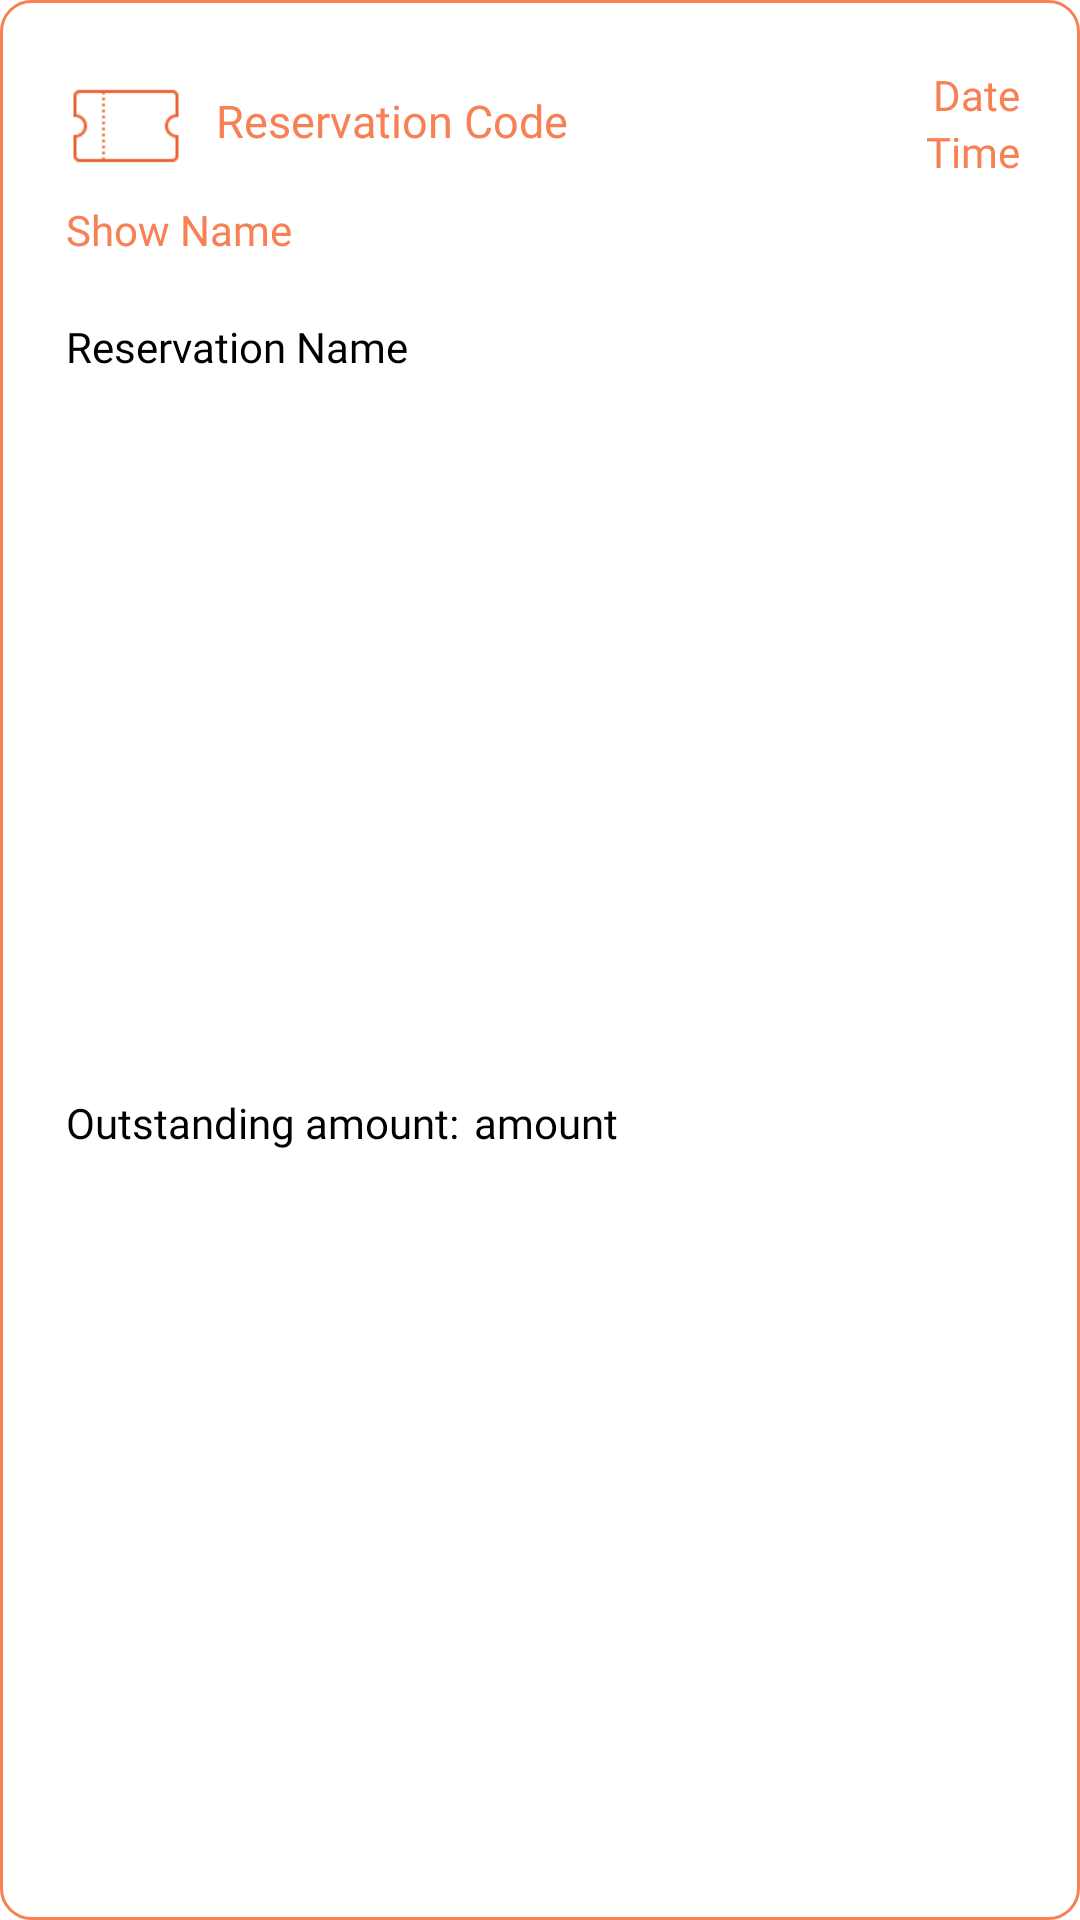

Named icons in this screenshot (1080*1920) and their bounding boxes, [x1, y1, x2, y2]:
ticket: [73, 89, 179, 163]
